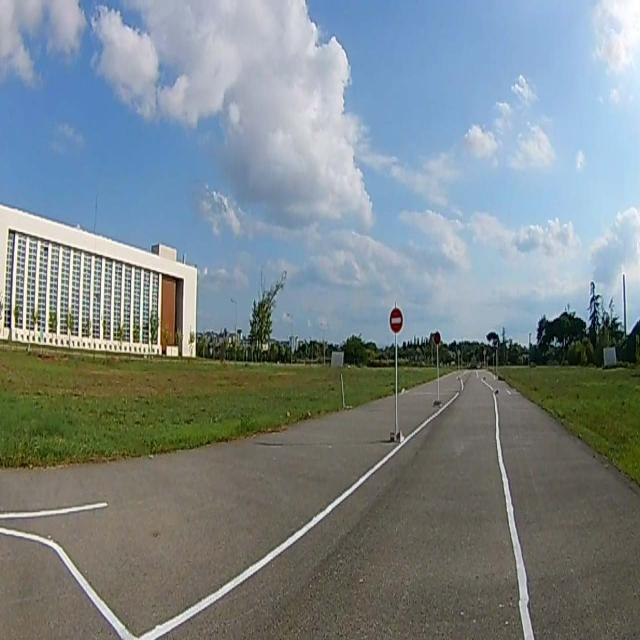girisyok: (390, 307, 404, 333)
